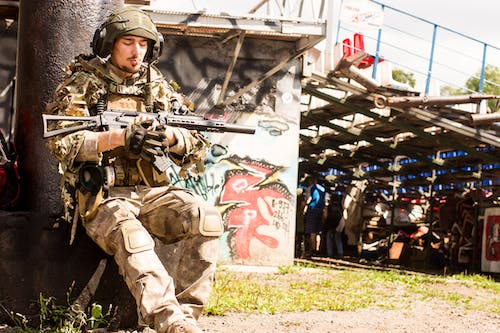gun: (38, 107, 256, 141)
